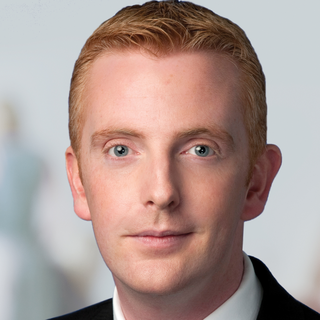eye: (93, 130, 145, 164), (175, 138, 222, 164)
